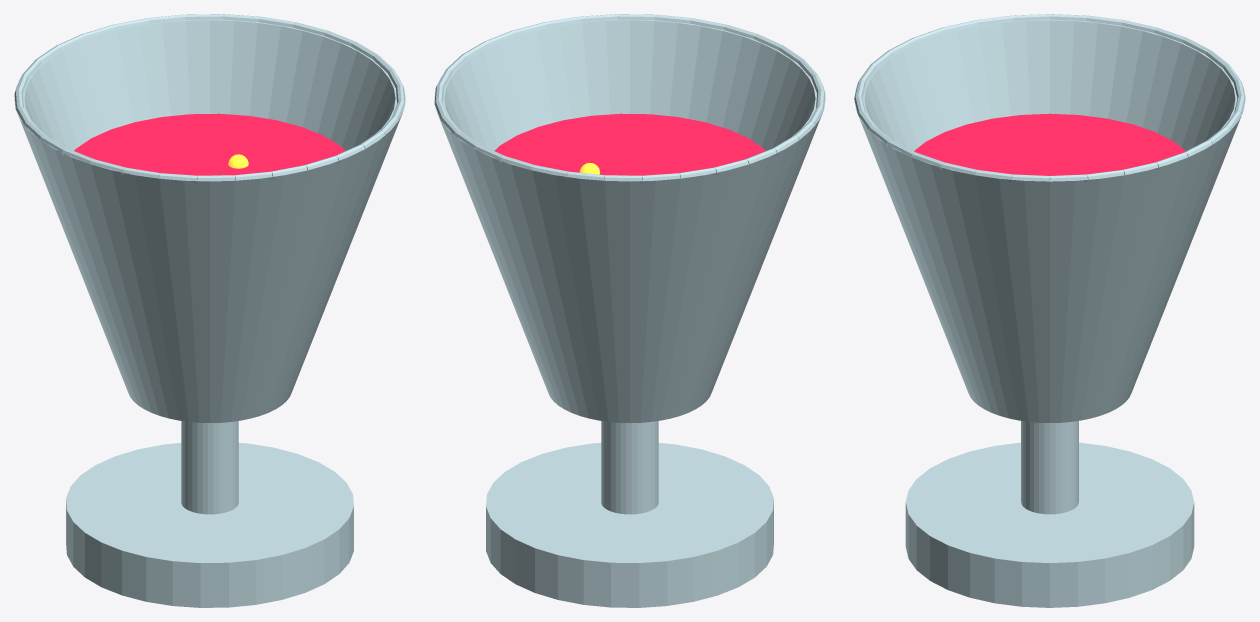
The model's file is drink_crimson_spore.glb.
The picture shows the model from 3 angles, left to right: view 1: azimuth 30°, elevation 25°; view 2: azimuth 150°, elevation 25°; view 3: azimuth 270°, elevation 25°; orthographic projection.
Parts seen in each view (by area): view 1: clear_0003, clear_0001, liquid_0004, clear_0002; view 2: clear_0003, clear_0001, liquid_0004, clear_0002; view 3: clear_0003, clear_0001, liquid_0004, clear_0002.
Part boxes in pixels (bbox=[...]): clear_0003: bbox=[14, 19, 405, 422]; clear_0001: bbox=[66, 443, 353, 607]; liquid_0004: bbox=[74, 113, 345, 175]; clear_0002: bbox=[181, 421, 238, 514]; clear_0003: bbox=[434, 19, 825, 422]; clear_0001: bbox=[486, 443, 773, 607]; liquid_0004: bbox=[494, 113, 765, 175]; clear_0002: bbox=[601, 421, 658, 514]; clear_0003: bbox=[854, 19, 1245, 422]; clear_0001: bbox=[905, 442, 1194, 607]; liquid_0004: bbox=[914, 113, 1185, 175]; clear_0002: bbox=[1021, 421, 1078, 514].
Bounding box in the file's own units: 0.19 × 0.242 × 0.19.
